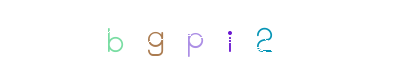2: (224, 0, 304, 80)
B: (106, 0, 186, 80)
G: (116, 0, 196, 80)
I: (163, 0, 243, 80)
P: (162, 0, 242, 80)
